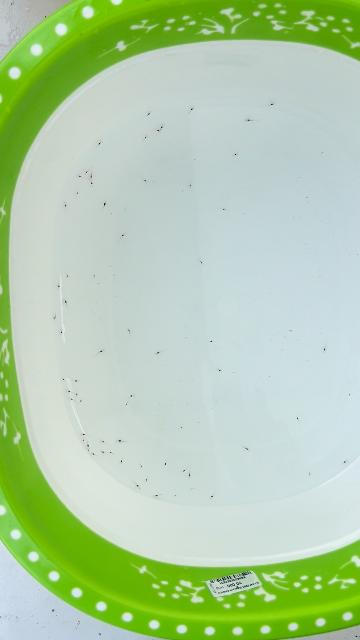benur: (90, 182, 94, 188), (161, 123, 165, 128), (145, 134, 149, 139), (99, 140, 103, 145), (83, 171, 88, 175), (89, 175, 93, 180), (63, 298, 67, 303), (87, 445, 91, 450), (153, 494, 158, 498), (343, 459, 348, 463), (245, 118, 249, 122), (77, 174, 81, 178), (144, 180, 148, 184), (223, 208, 227, 212), (57, 286, 61, 290), (80, 398, 84, 402), (100, 439, 104, 443), (137, 485, 141, 489), (181, 470, 185, 474), (155, 352, 159, 356), (246, 448, 250, 452), (271, 102, 276, 105), (148, 111, 153, 114), (157, 129, 162, 132), (64, 202, 67, 207), (104, 200, 107, 205), (100, 349, 105, 352), (75, 380, 80, 383), (68, 397, 73, 400), (80, 433, 85, 436), (116, 439, 121, 442), (163, 463, 166, 468), (130, 394, 135, 397), (210, 339, 215, 342), (191, 107, 195, 110), (235, 152, 239, 155), (76, 190, 79, 194), (67, 275, 70, 279), (53, 317, 56, 321), (60, 329, 63, 333), (127, 327, 130, 331), (66, 389, 70, 392), (90, 452, 94, 455), (100, 450, 104, 453), (188, 474, 191, 478), (209, 496, 213, 499), (296, 416, 299, 420), (122, 233, 126, 236), (189, 185, 192, 188), (75, 394, 78, 397), (82, 440, 85, 443), (120, 461, 123, 464), (181, 426, 184, 429), (125, 403, 128, 406), (141, 465, 143, 469), (145, 479, 147, 483), (290, 330, 294, 332), (323, 349, 325, 353), (201, 262, 203, 265), (62, 377, 64, 380), (190, 488, 193, 490), (219, 370, 222, 372), (309, 474, 311, 477), (109, 451, 111, 453), (93, 274, 95, 276), (175, 495, 177, 497)
